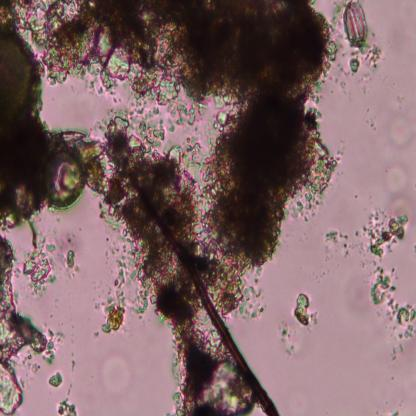Background material: (4, 0, 336, 322), (88, 117, 205, 329), (0, 236, 56, 415), (355, 209, 416, 336), (166, 329, 254, 412), (0, 121, 52, 227), (375, 108, 416, 208), (339, 43, 382, 100), (21, 224, 57, 291), (99, 266, 131, 335), (95, 352, 130, 402), (293, 289, 319, 329), (283, 320, 308, 361), (325, 227, 349, 248), (65, 248, 81, 279), (58, 397, 77, 415), (48, 370, 63, 390)
Diatom: (0, 35, 34, 126), (42, 149, 87, 208), (342, 1, 370, 49), (48, 127, 86, 146)
